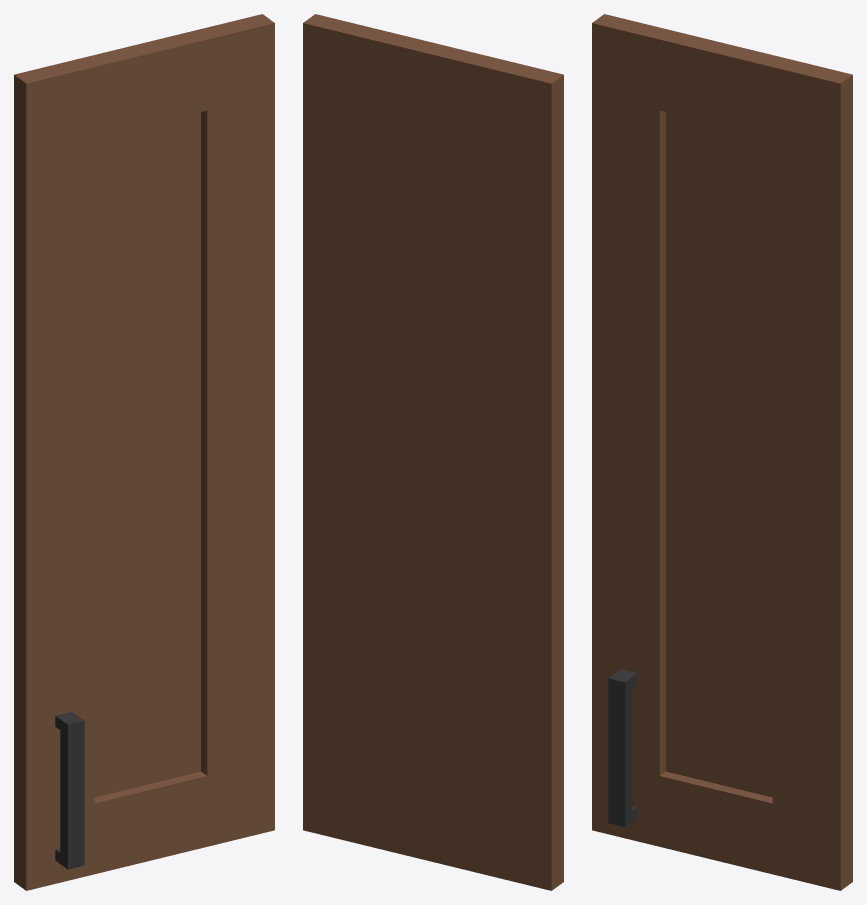
The model's file is Door2_C2_13.fbx.
3 renders of one model, left to right at view 1: azimuth 30°, elevation 25°; view 2: azimuth 150°, elevation 25°; view 3: azimuth 330°, elevation 25°, orthographic.
Visible parts, largest first — view 1: Door2_C2_13; view 2: Door2_C2_13; view 3: Door2_C2_13.
Boxes of the visible parts, x1,y1,x2,y2 form: Door2_C2_13: (14,14,274,890); Door2_C2_13: (303,14,563,890); Door2_C2_13: (592,14,852,890).
Size of the model in its own units: 29 by 90 by 5.03.
